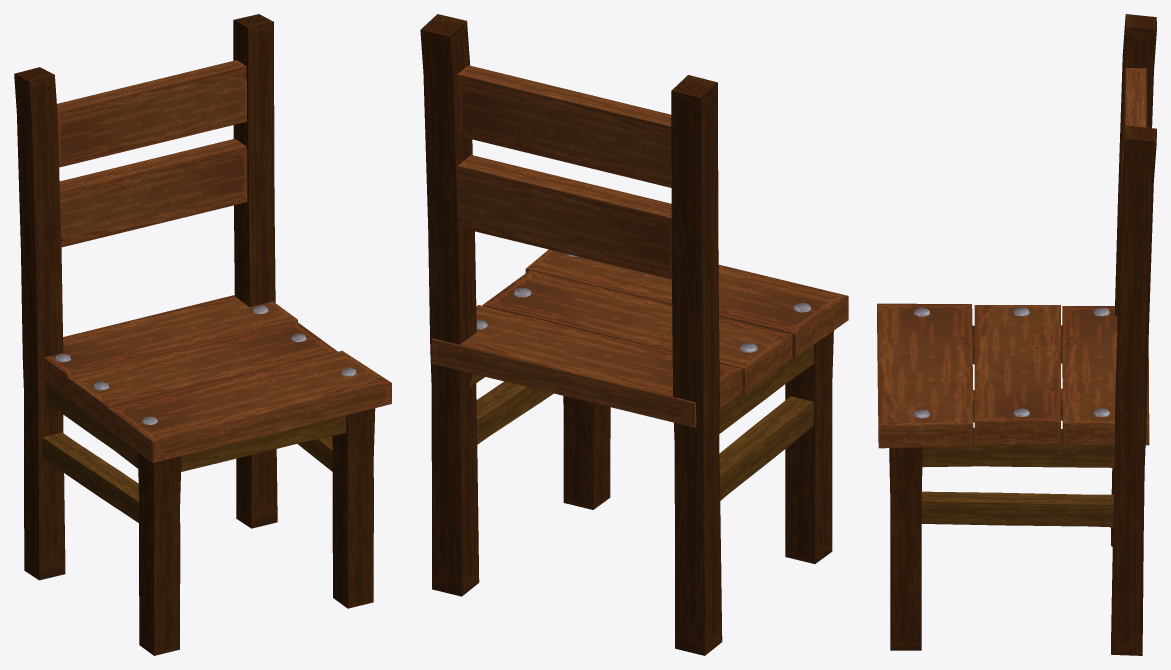
File: chair_1.glb
3 renders of one model, left to right at view 1: azimuth 30°, elevation 25°; view 2: azimuth 150°, elevation 25°; view 3: azimuth 270°, elevation 25°, orthographic. The views are drawn at different scales.
Parts seen in each view (by area): view 1: Chair_1; view 2: Chair_1; view 3: Chair_1.
Boxes of the visible parts, bbox=[...] form: Chair_1: bbox=[14, 14, 391, 655]; Chair_1: bbox=[420, 14, 848, 655]; Chair_1: bbox=[877, 14, 1156, 655].
Size of the model in its own units: 0.5805 by 1.12 by 0.5489.
2 materials, 2 textured.
